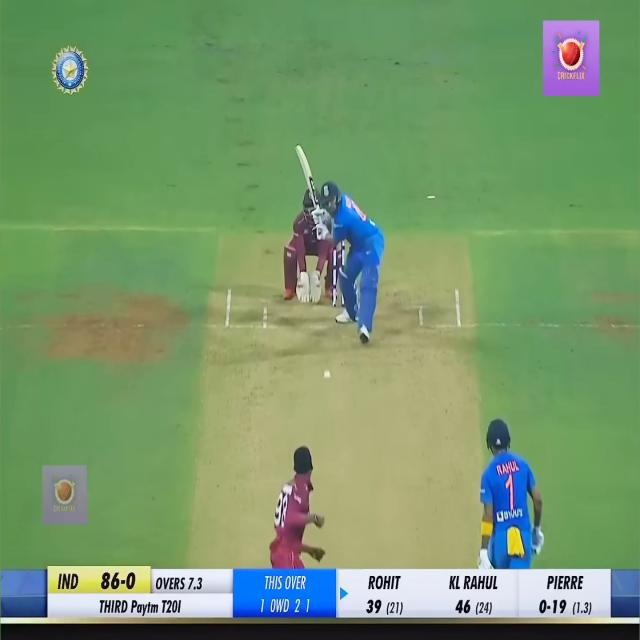fully_visible: (129, 596, 160, 623)
